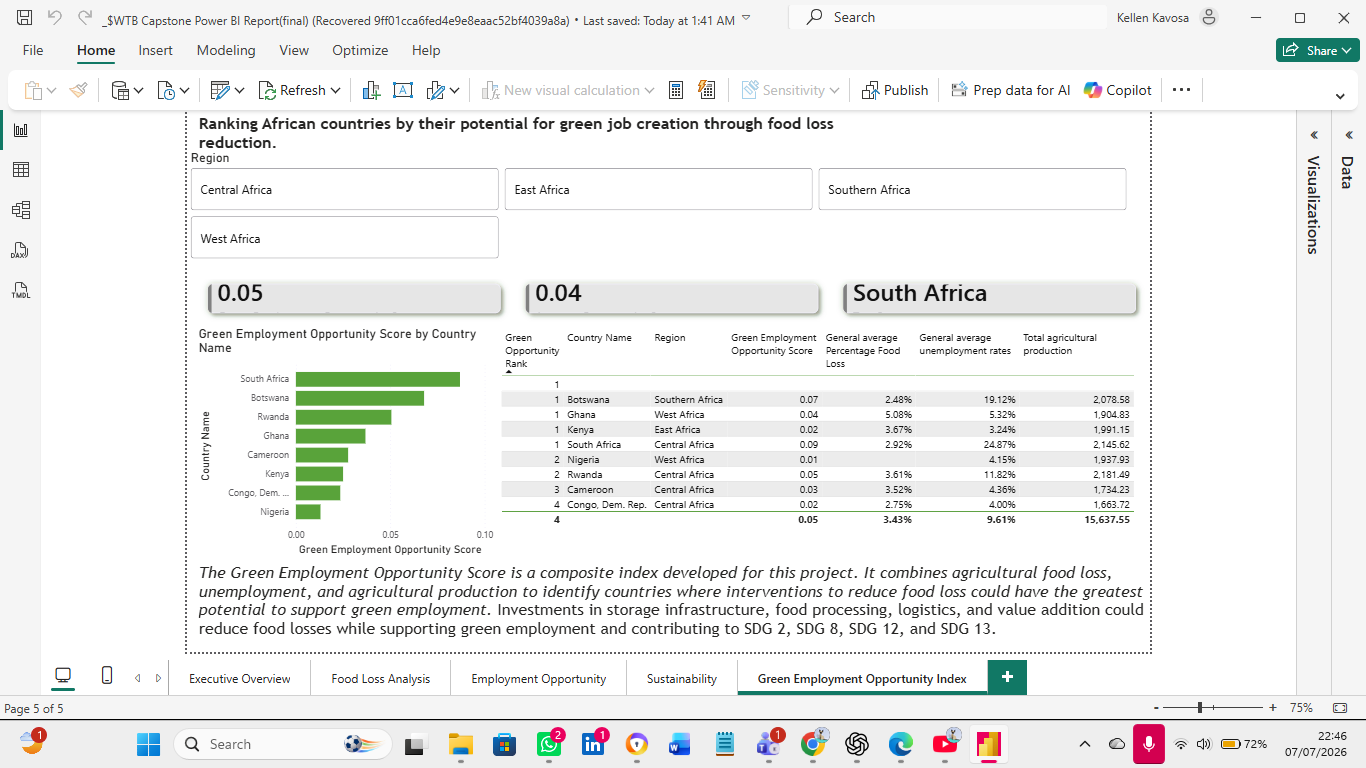

Layout of this report page (visuals, bound fields, positions):
{"tool":"powerbi","page":{"name":"Green Employment Opportunity Index","canvas":[1280,720],"ordinal":4},"visuals":[{"type":"textbox","box":[10.5,0,927.6,65.7],"z":0},{"type":"textbox","box":[10.5,596,1269.7,124],"z":1},{"type":"cardVisual","fields":{"Data":["Fact Table.Green Opportunity Score","Fact Table.Average Opportunity Score","Fact Table.Top Country"]},"box":[10.5,213.6,1269.7,73.2],"z":2},{"type":"clusteredBarChart","fields":{"Category":["Fact Table.Country Name"],"Y":["Fact Table.Green Employment Opportunity Score"]},"box":[10.5,286.8,401.8,309.2],"z":3},{"type":"tableEx","fields":{"Values":["Fact Table.Green Opportunity Rank","Fact Table.Country Name","Fact Table.Region","Fact Table.Green Employment Opportunity Score","Fact Table.General average Percentage Food Loss","Fact Table.General average unemployment rates","Fact Table.Total agricultural production"]},"box":[412.3,286.8,867.9,309.2],"z":4},{"type":"advancedSlicerVisual","fields":{"Values":["Fact Table.Region"]},"box":[0,53.8,1254.8,149.4],"z":5}]}

Visuals, with their boxes on the page's 1280x720 design canvas (x1, y1, x2, y2). These are canvas units, not pixel positions in the 1366x768 screenshot, which may show the page scaled, cropped or inside an application window:
textbox: [x1=10, y1=0, x2=938, y2=66]
textbox: [x1=10, y1=596, x2=1280, y2=720]
cardVisual - Fact Table.Green Opportunity Score x Fact Table.Average Opportunity Score: [x1=10, y1=214, x2=1280, y2=287]
clusteredBarChart - Fact Table.Country Name x Fact Table.Green Employment Opportunity Score: [x1=10, y1=287, x2=412, y2=596]
tableEx - Fact Table.Green Opportunity Rank x Fact Table.Country Name: [x1=412, y1=287, x2=1280, y2=596]
advancedSlicerVisual - Fact Table.Region: [x1=0, y1=54, x2=1255, y2=203]
